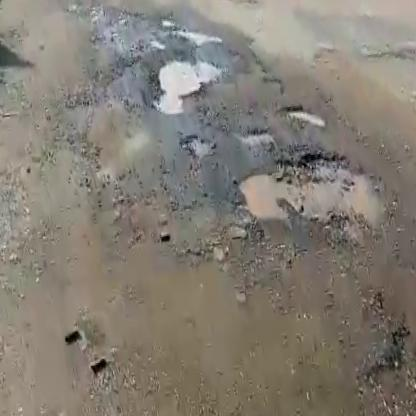pothole: (230, 140, 393, 243), (151, 48, 230, 116), (281, 101, 325, 135), (180, 130, 222, 163), (240, 126, 277, 147)
